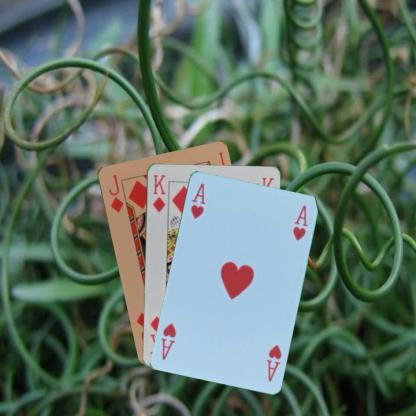Ah: (188, 180, 207, 220), (264, 342, 282, 383)
Jd: (106, 172, 124, 214)
Kd: (150, 172, 167, 213)
